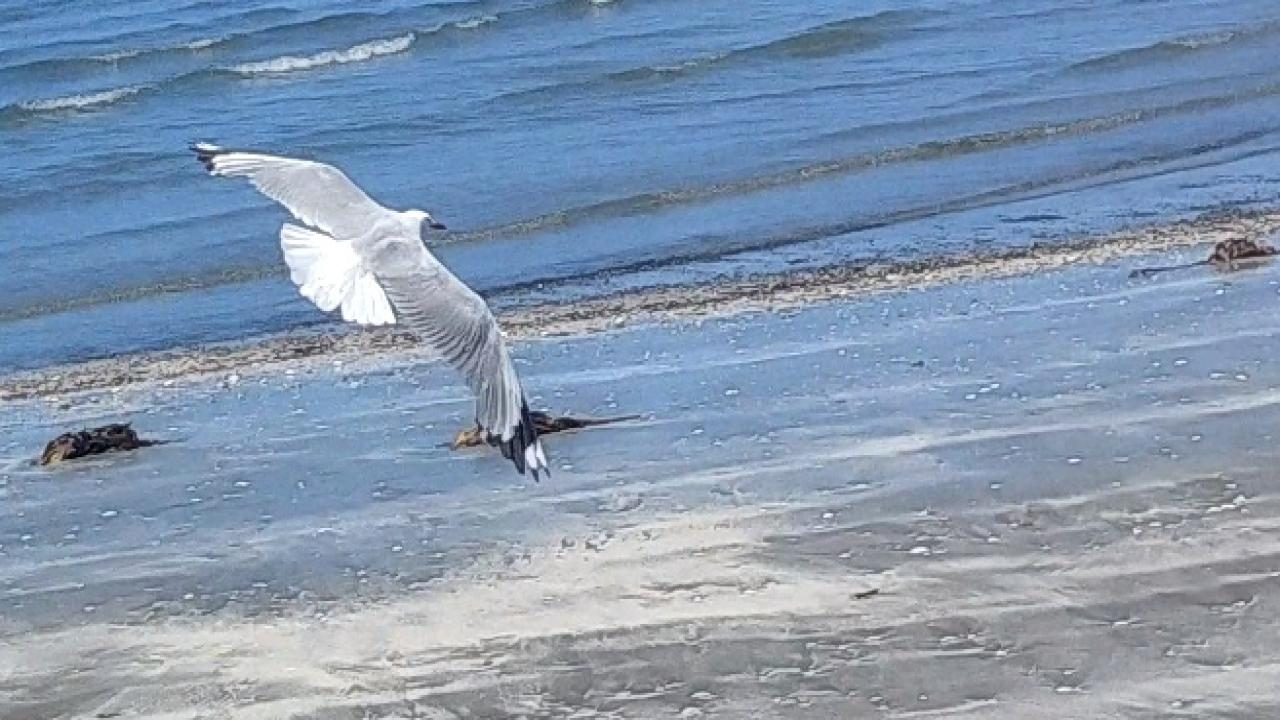Bird: (180, 132, 559, 492)
